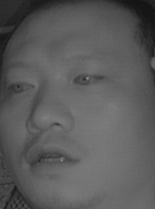eye: (71, 67, 107, 89), (5, 74, 36, 95)
mouth: (21, 138, 79, 174)
